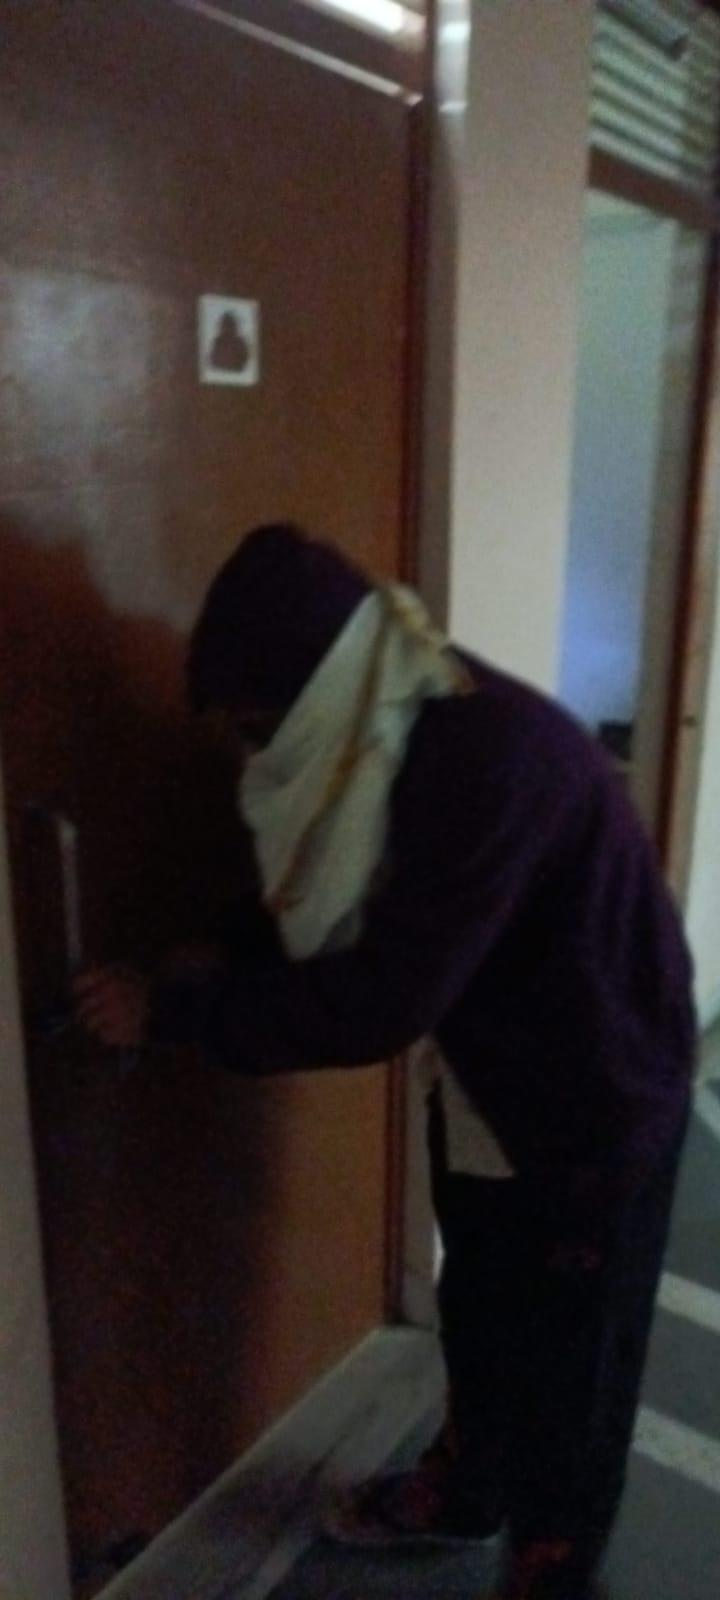suspicion: (0, 450, 720, 1600), (150, 350, 670, 1600)
